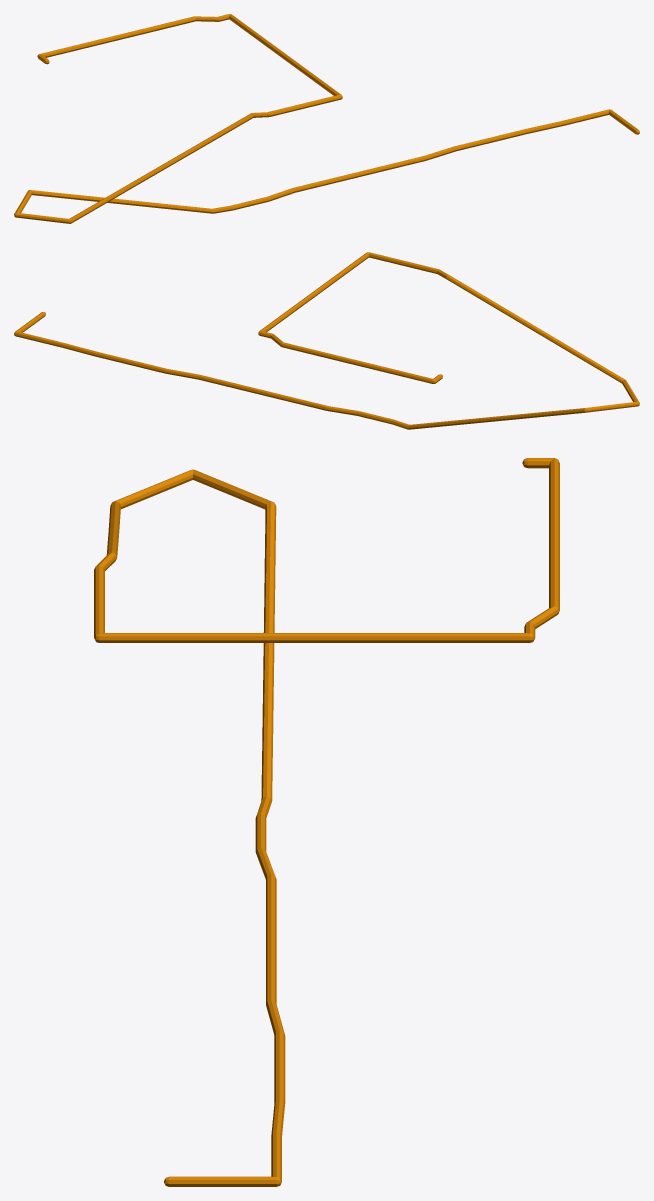
3 views of the same model, one above another, from view 1: azimuth 30°, elevation 25°; view 2: azimuth 150°, elevation 25°; view 3: azimuth 270°, elevation 25° (orthographic). The views are drawn at different scales.
Bounding box in the file's own units: 2595 × 520 × 866.
